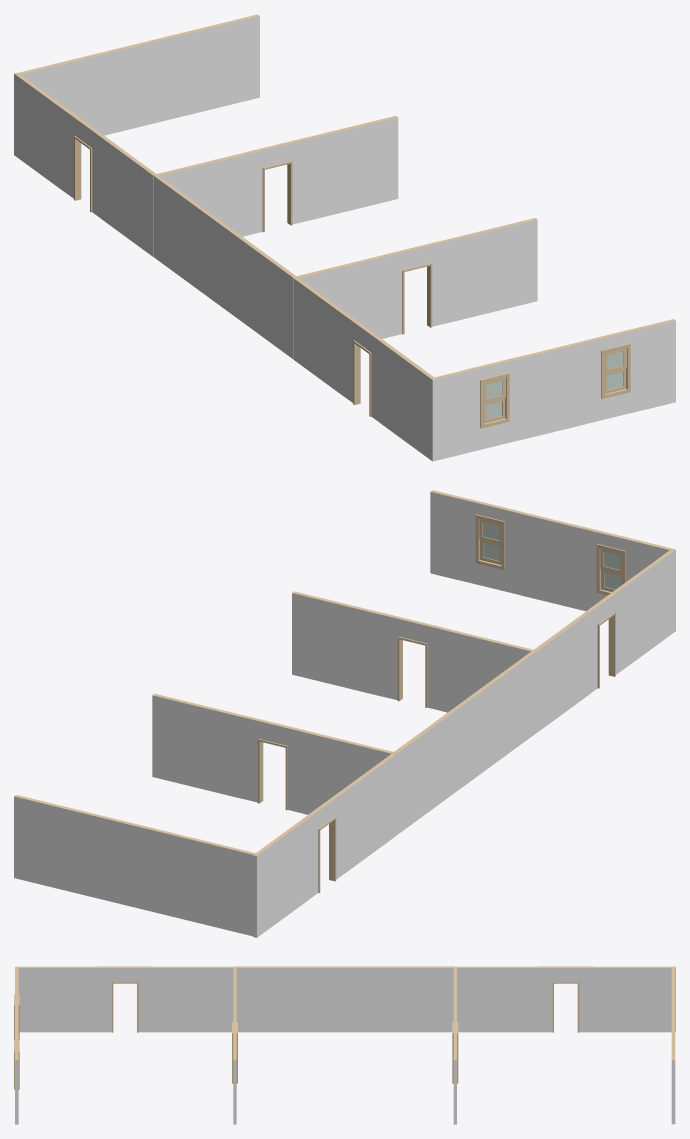
File: Stagewall1.gltf
The picture shows the model from 3 angles, top to bottom: view 1: azimuth 30°, elevation 25°; view 2: azimuth 150°, elevation 25°; view 3: azimuth 270°, elevation 25°; orthographic projection. The views are drawn at different scales.
Parts seen in each view (by area): view 1: 窓壁2.001, 壁, ドア壁, ドア壁2, 壁2, ドア壁2.001, ドア壁2.002; view 2: 壁, 窓壁2.001, ドア壁, ドア壁2, 壁2, ドア壁2.002, ドア壁2.001; view 3: 壁2, ドア壁2.002, ドア壁2.001, 窓壁2.001, ドア壁, 壁, ドア壁2.
Part boxes in pixels (x1,y1,x2,y2): 窓壁2.001: (432, 319, 675, 460); 壁: (16, 14, 259, 135); ドア壁: (157, 115, 398, 236); ドア壁2: (295, 218, 537, 338); 壁2: (153, 174, 296, 358); ドア壁2.001: (293, 277, 434, 461); ドア壁2.002: (14, 72, 156, 256); 壁: (14, 795, 257, 936); 窓壁2.001: (430, 490, 673, 610); ドア壁: (152, 693, 394, 814); ドア壁2: (292, 591, 535, 712); 壁2: (393, 650, 536, 834); ドア壁2.002: (253, 753, 396, 937); ドア壁2.001: (534, 549, 675, 732); 壁2: (235, 966, 455, 1032); ドア壁2.002: (456, 966, 675, 1032); ドア壁2.001: (15, 966, 234, 1032); 窓壁2.001: (14, 967, 19, 1124); ドア壁: (452, 967, 458, 1124); 壁: (671, 967, 675, 1124); ドア壁2: (232, 967, 237, 1124).
Size of the model in its own units: 2.53 by 0.8076 by 7.51.
